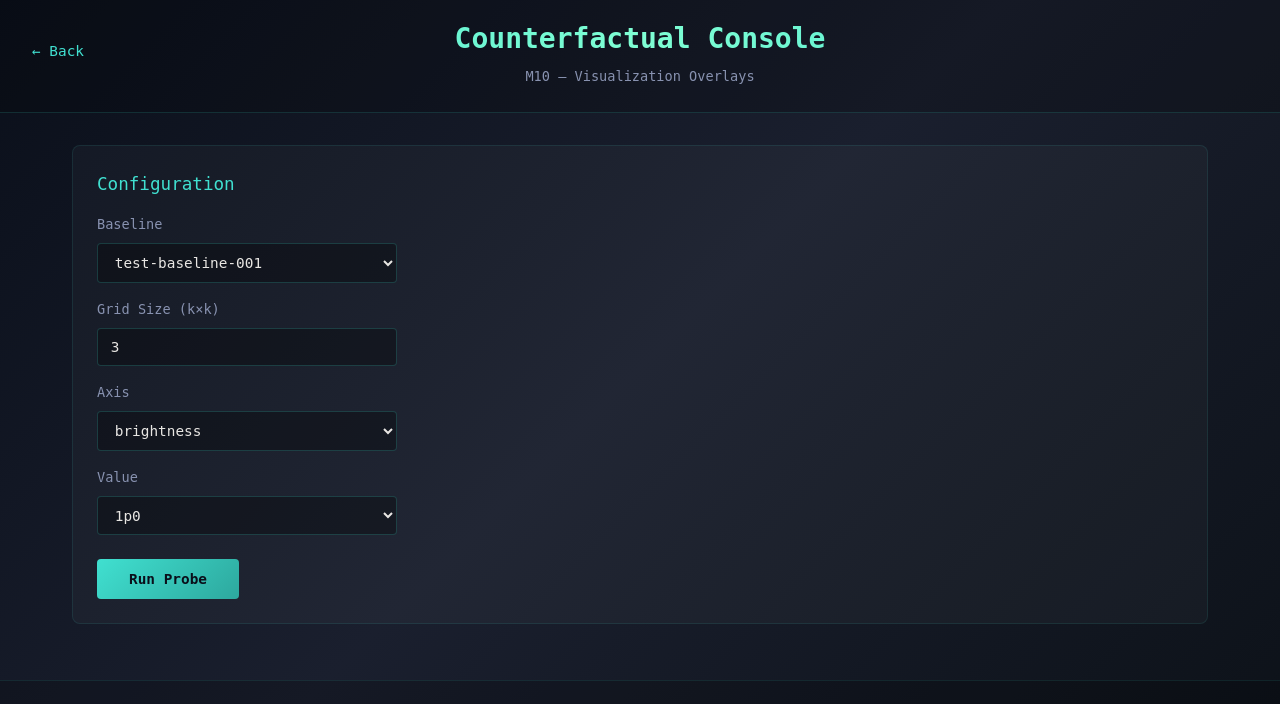
Test: CounterfactualConsole › displays raw JSON response
Click the button "Run Probe".
click(168, 579)  # box [97,559,239,599]
(page scrolled)
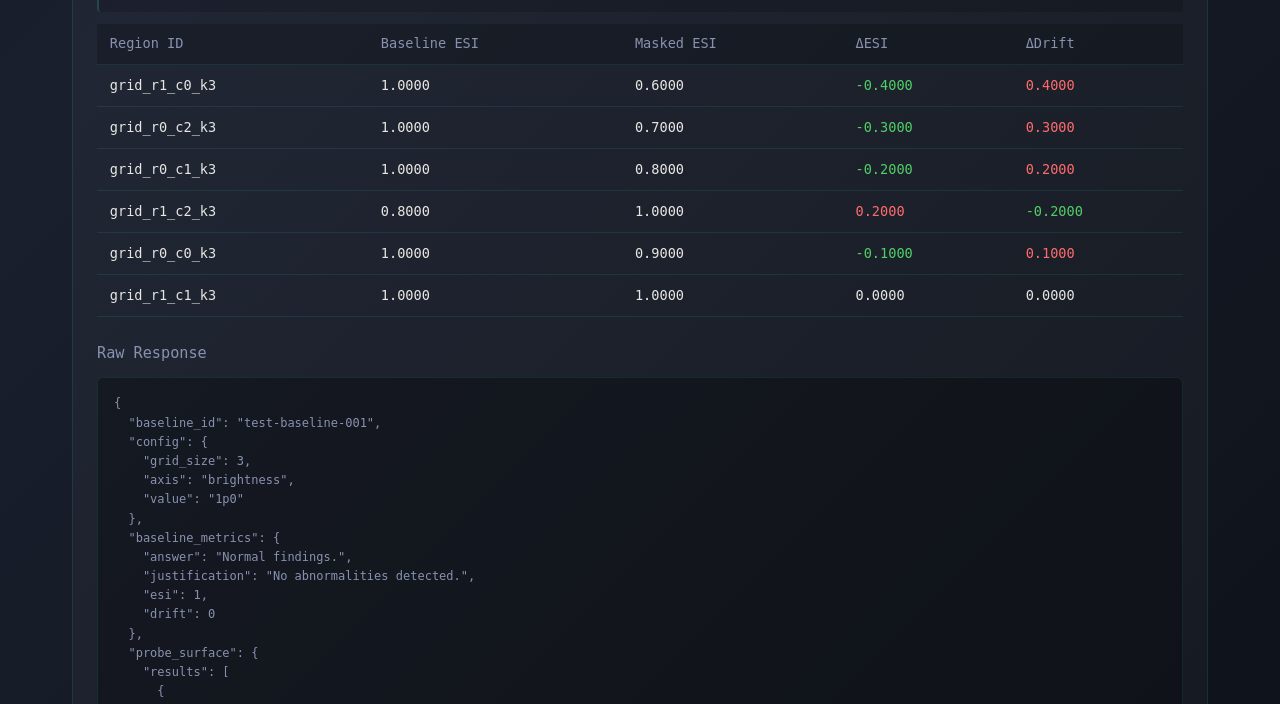
Now the heading "Raw Response" is shown, box [97,344,207,362]
